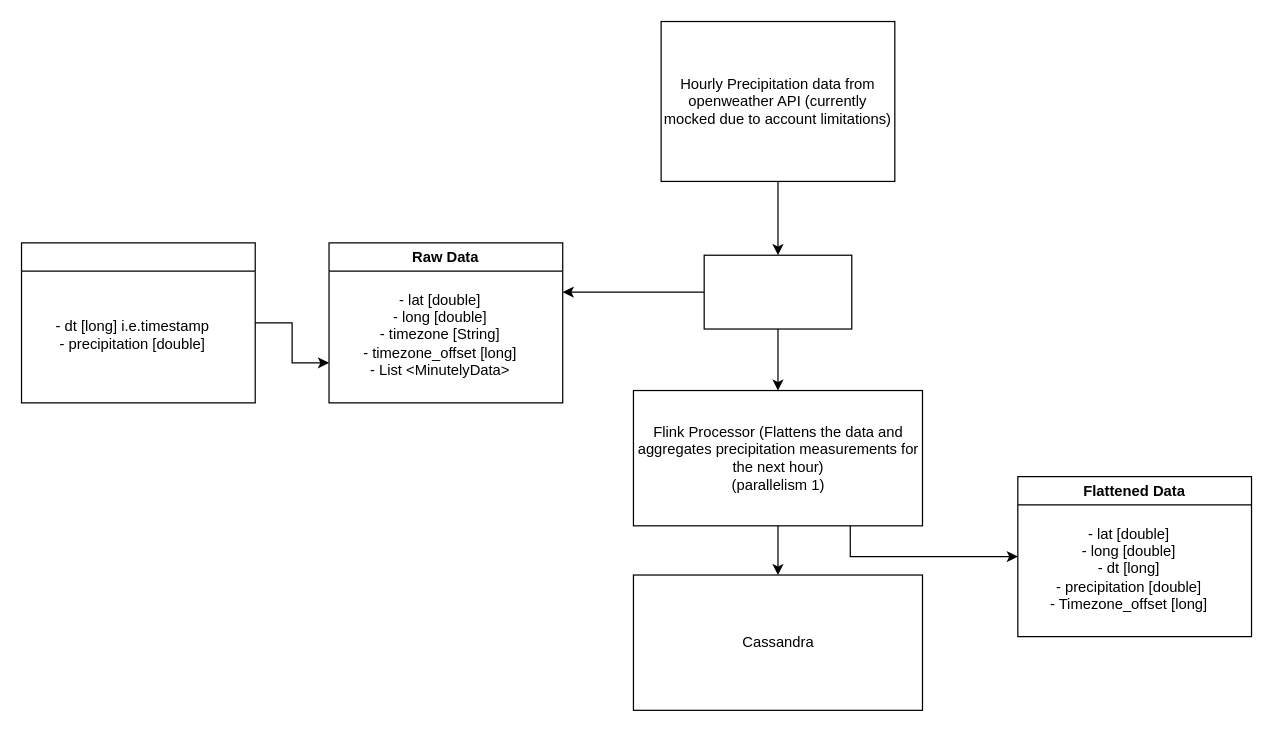
Some shapes in this 1273 by 732 pixel diagram are drawn without their labels. The shapes that lost their labels are listed below. From the top down, each one's box as (x1, y1, x2, y2) in pixels, then its label:
(703, 254, 852, 329): Kafka (1 topic, 1 partition)
(20, 242, 255, 403): Minutely Data
